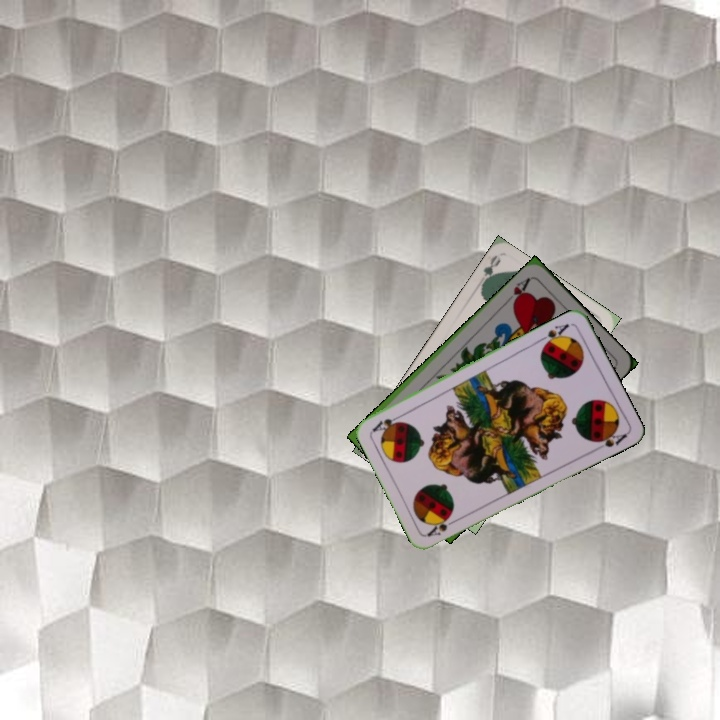GO: (477, 252, 504, 291)
HA: (501, 273, 533, 308)
SA: (535, 320, 572, 350), (423, 510, 461, 539)
